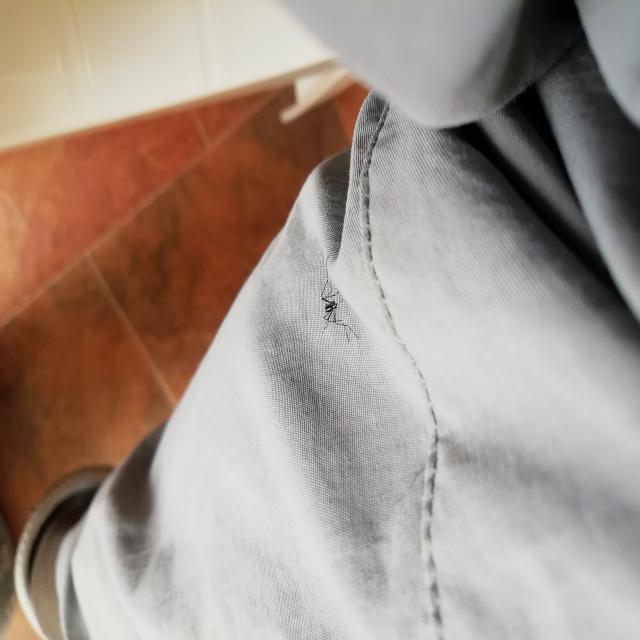albopictus: (316, 269, 354, 342)
